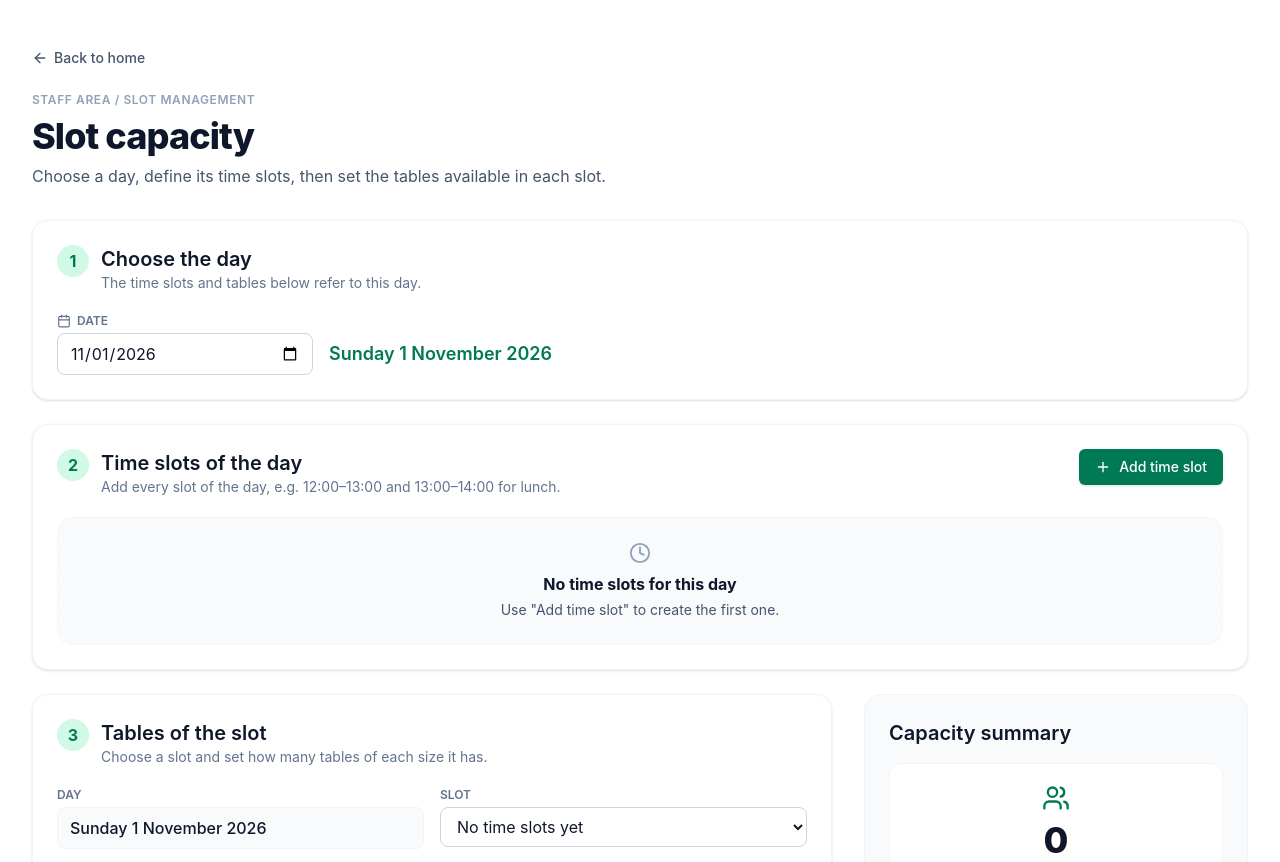
Test: SlotCapacity › removes a draft slot and clears the selected slot
Expected: the heading "No time slots for this day" is shown, [543,572,737,596]
Click the button "Add time slot".
click(1151, 467)  # box [1079,449,1223,485]
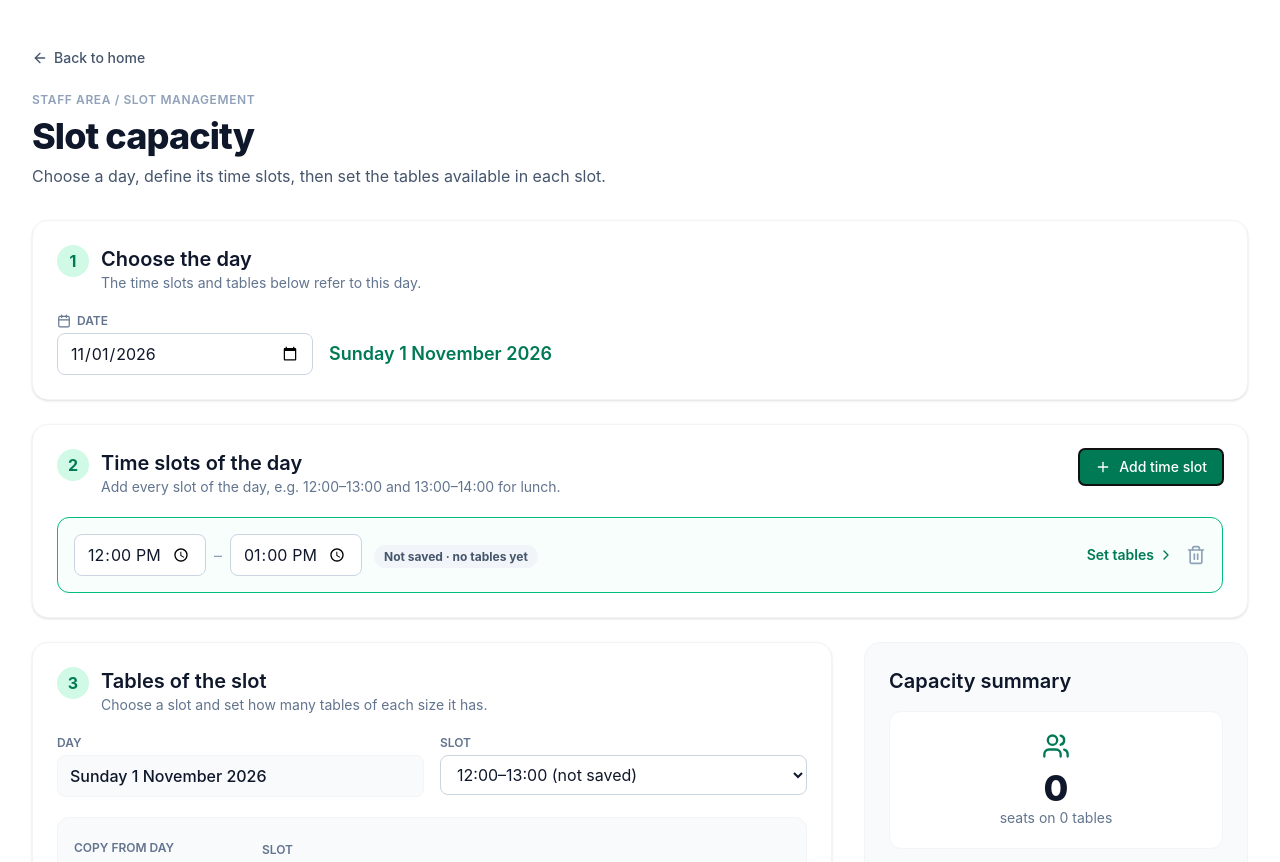
Now the button "Set tables" is shown, box [1087,545,1174,565]
Click the button named "Remove time slot".
click(1196, 555)  # box [1186,545,1206,565]
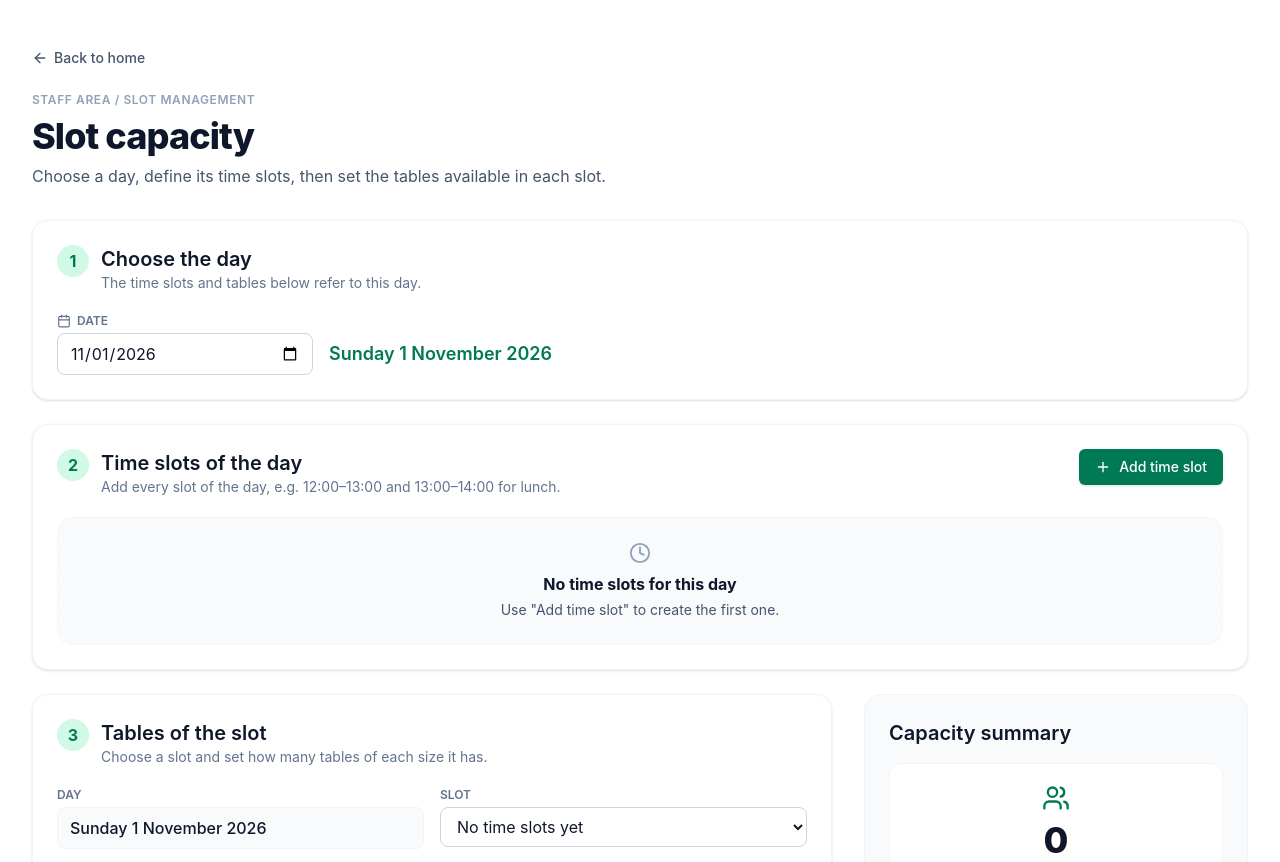
Now the time field labelled "Start time" is gone
Now the heading "No time slots for this day" is shown, box [543,572,737,596]
